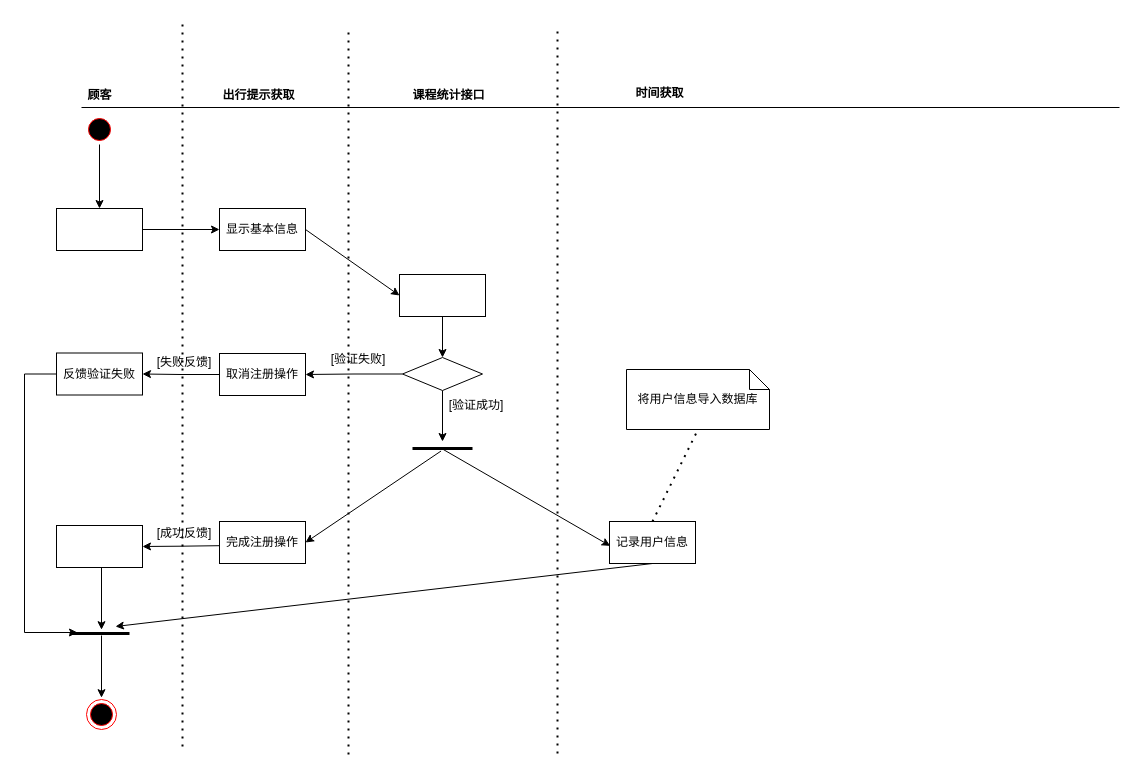
Some shapes in this 1137 by 773 pixel diagram are drawn without their labels. The box of each missing label's shape, as (x1, y1, x2, y2) in pixels:
反馈注册成功: (56, 524, 142, 568)
点击出行界面: (56, 208, 142, 250)
验证身份: (398, 274, 486, 316)
